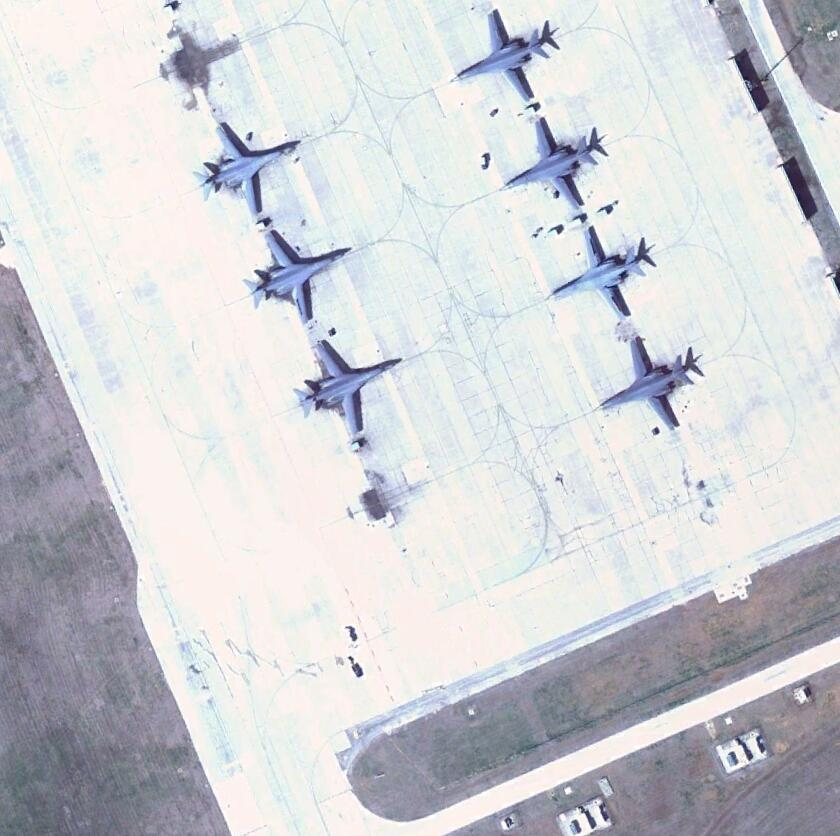A10: (446, 8, 580, 107), (589, 335, 707, 436), (290, 335, 401, 438), (190, 125, 304, 224), (241, 229, 355, 323), (497, 121, 617, 210), (546, 229, 662, 320)
